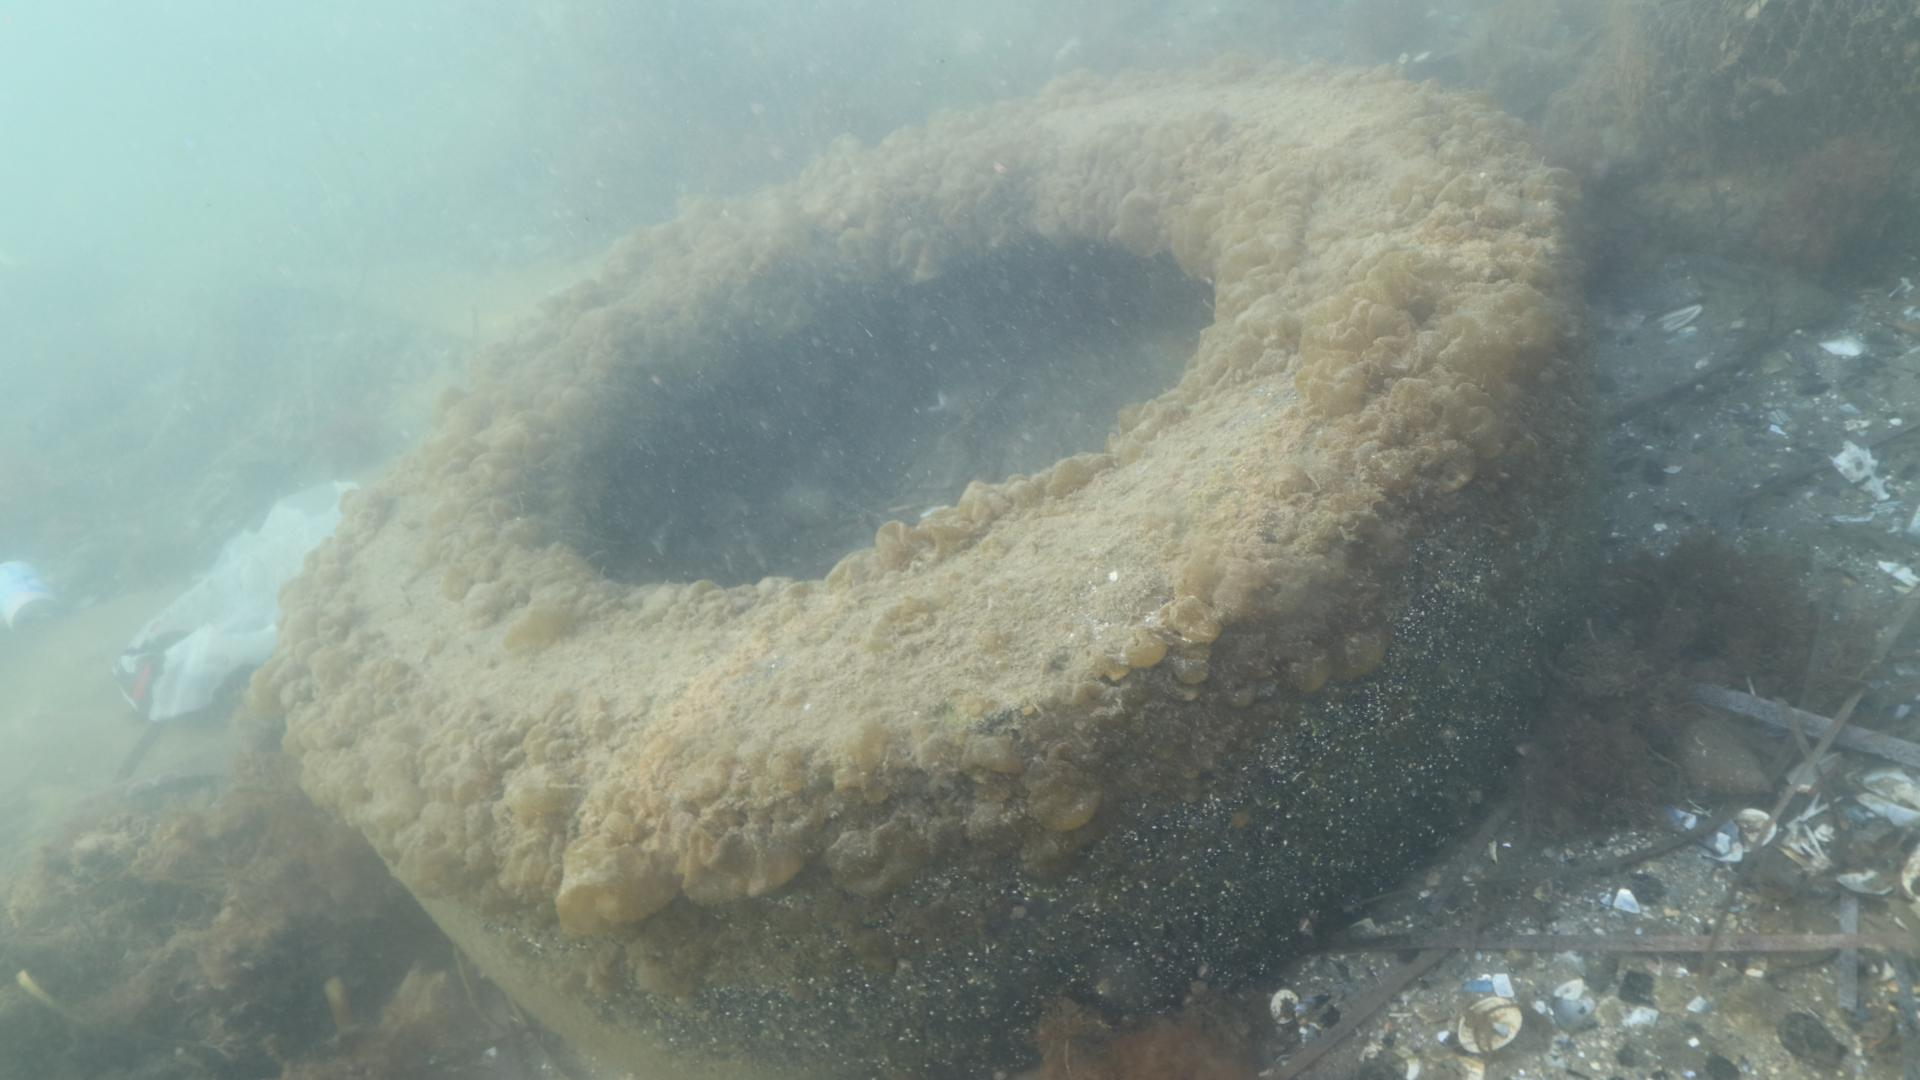tire: (280, 65, 1586, 1080)
